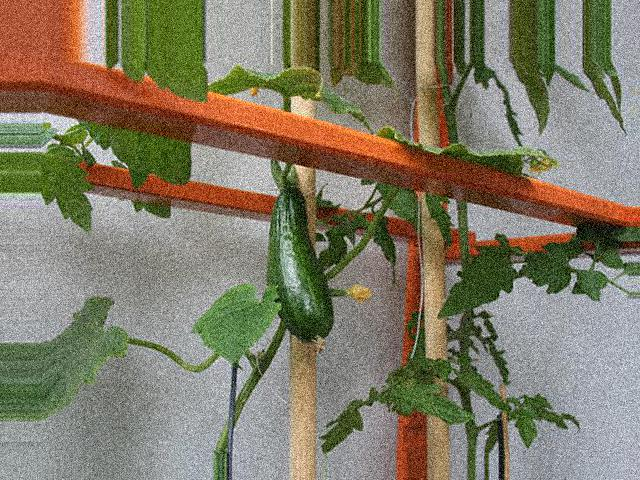cucumber: (267, 187, 333, 354)
